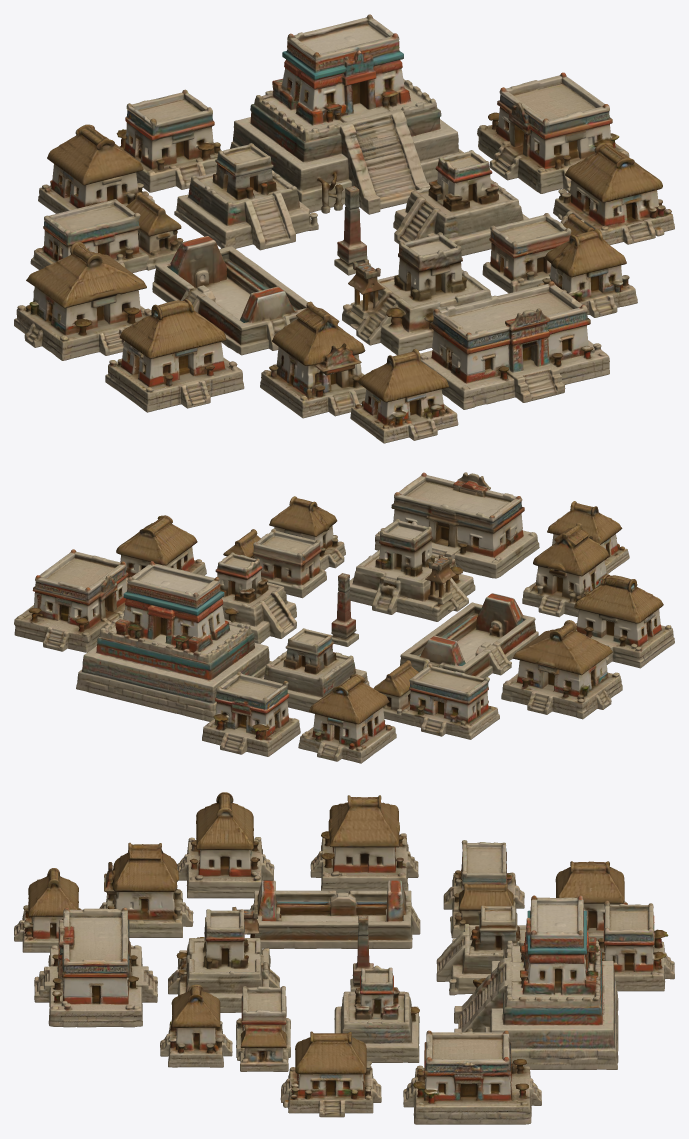
Rendered from Ancient Town (Mesoamerican).fbx.
3 views of the same model, one above another, from view 1: azimuth 30°, elevation 25°; view 2: azimuth 150°, elevation 25°; view 3: azimuth 270°, elevation 25° (orthographic). The views are drawn at different scales.
Parts seen in each view (by area): view 1: tripo_node_52fcea45; view 2: tripo_node_52fcea45; view 3: tripo_node_52fcea45.
Boxes of the visible parts, box(x1,y1,x2,y2) form: tripo_node_52fcea45: box(14, 14, 674, 443); tripo_node_52fcea45: box(14, 472, 674, 763); tripo_node_52fcea45: box(14, 792, 674, 1124).
Bounding box in the file's own units: 0.9932 × 0.2 × 1.
